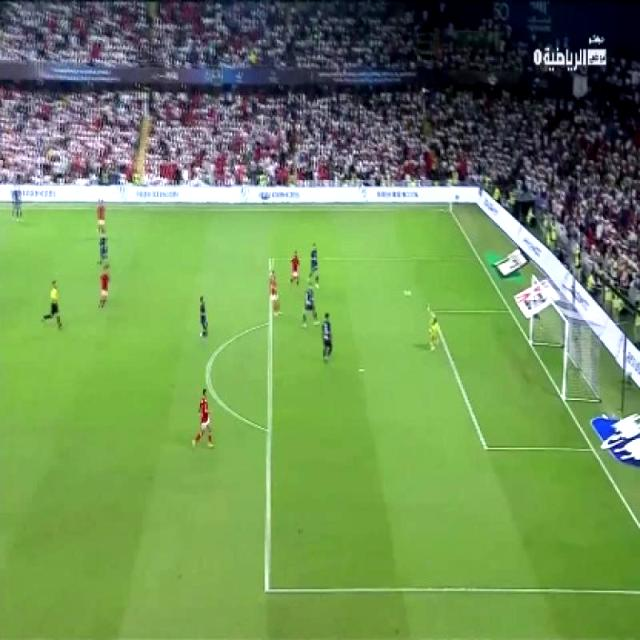bigarea_bottom_inner: (255, 575, 280, 604)
bigarea_top_inner: (262, 251, 280, 270)
bottom_arc_area_intersection: (262, 422, 272, 438)
corner: (444, 206, 452, 212)
smallarea_bottom_inner: (478, 434, 492, 456)
smallarea_bottom_outter: (586, 438, 600, 457)
smallarea_top_outter: (504, 302, 514, 316)
top_arc_area_intersection: (262, 315, 276, 332)
